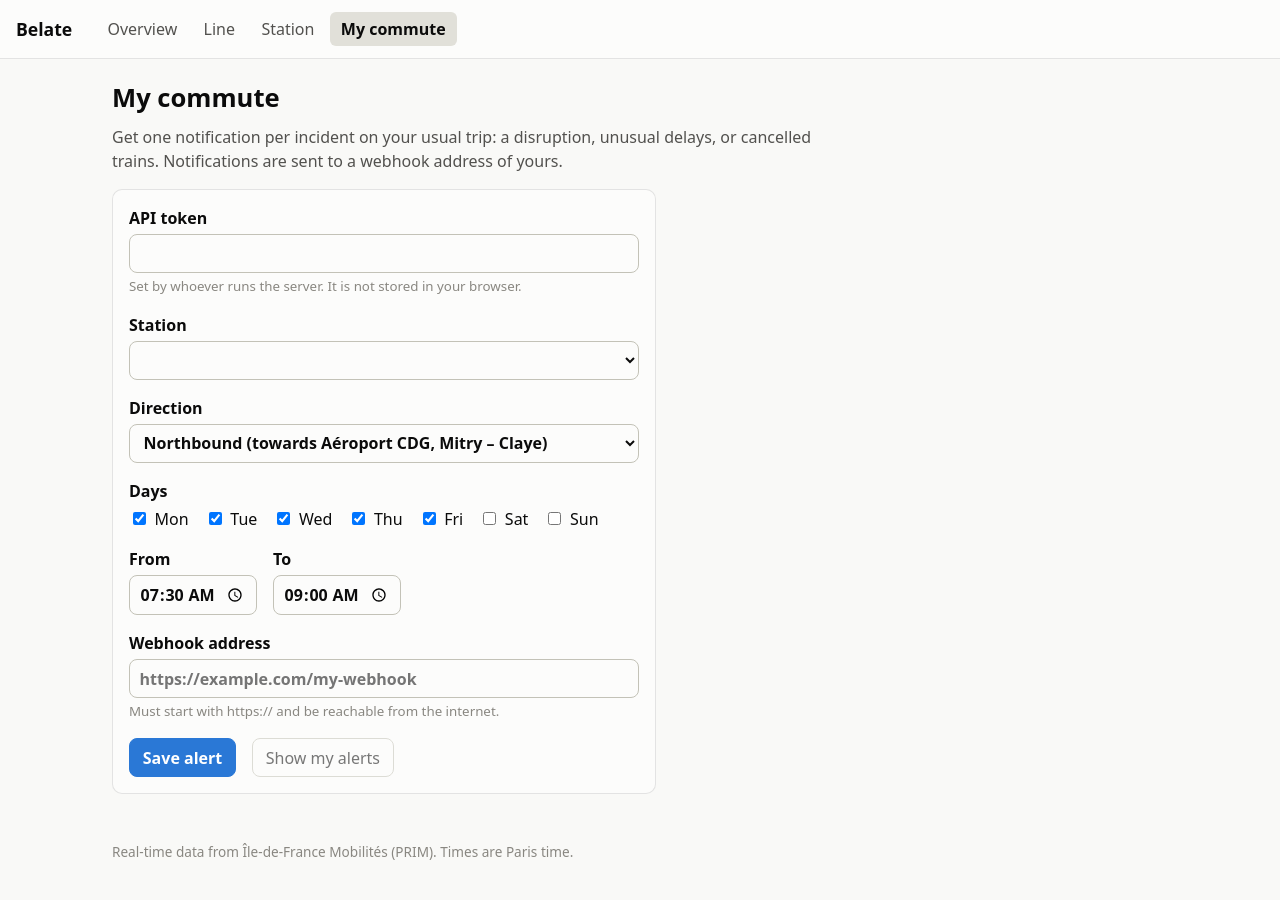
App › the commute form shows why a request was refused
Type "secret" into the password field labelled "API token" at (384, 254), box [129,234,639,273]
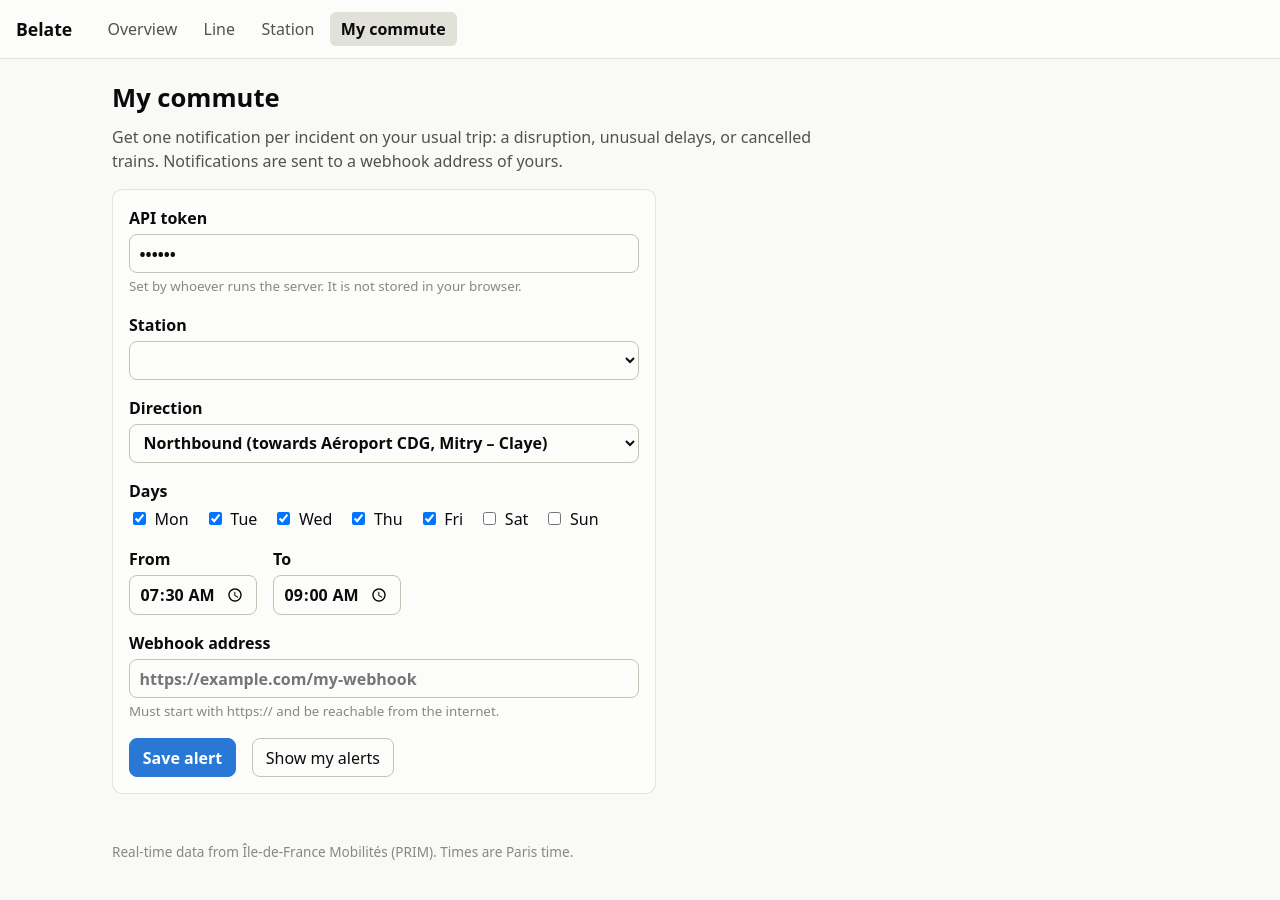
Type "https://internal.example.com/" into the field labelled "Webhook address" at (384, 679), box [129,659,639,698]
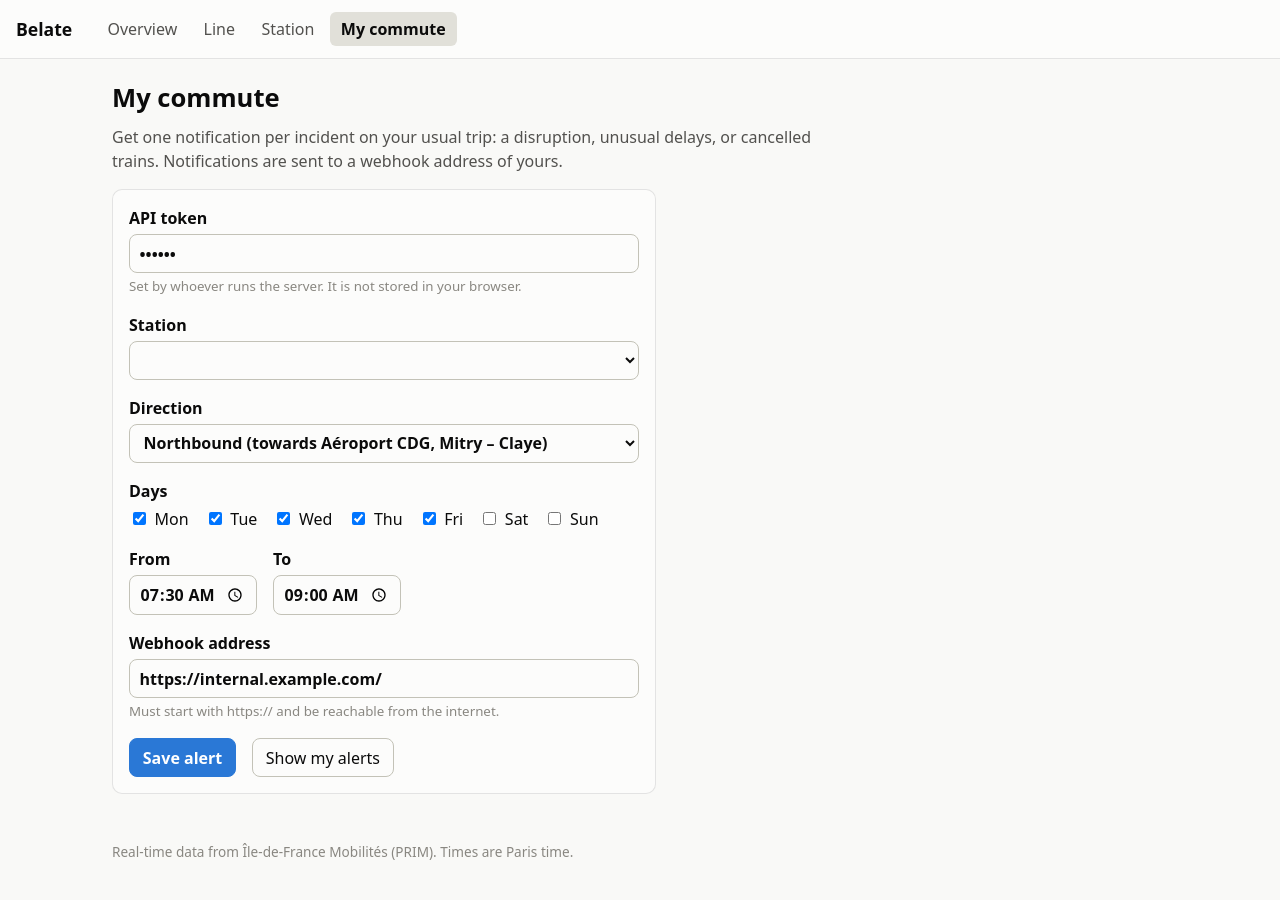
Click the button "Save alert" at (182, 758), box [129,738,236,777]
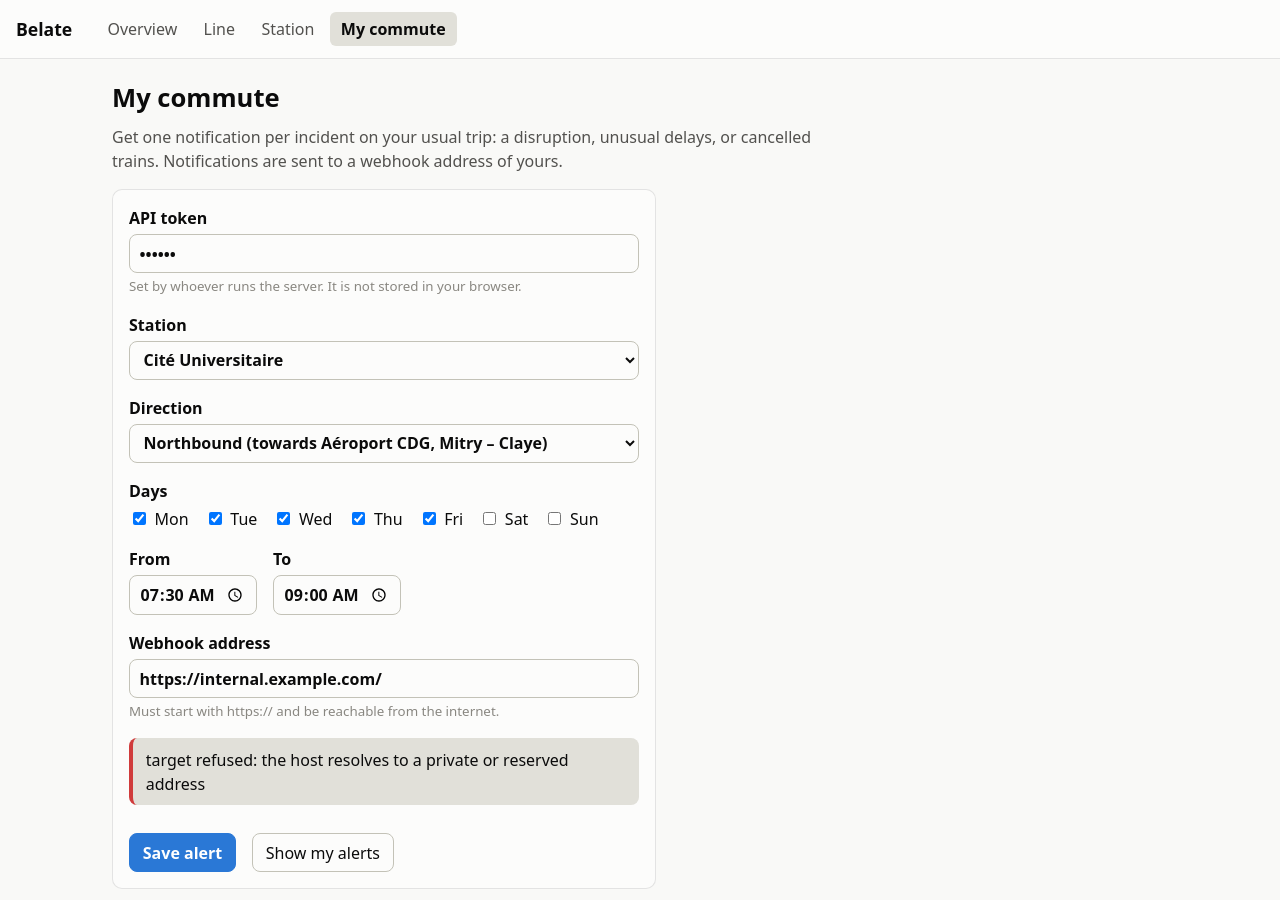
expect the message shows "private or reserved": met, box [146,749,569,795]
